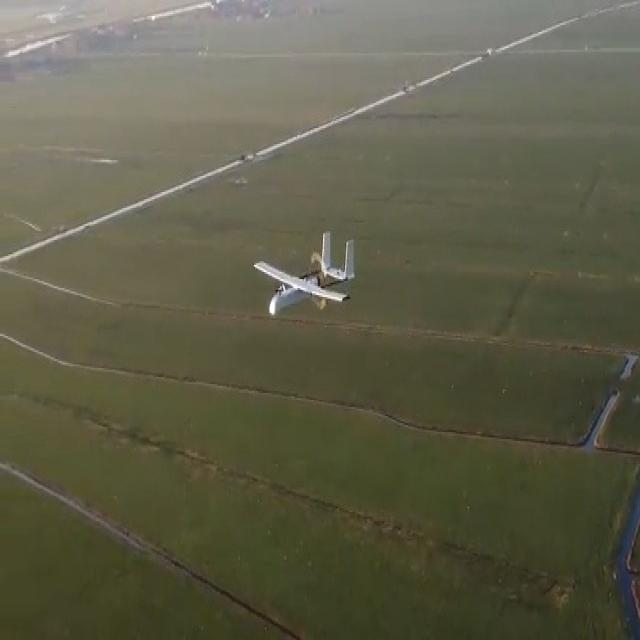iha: (283, 257, 328, 302)
